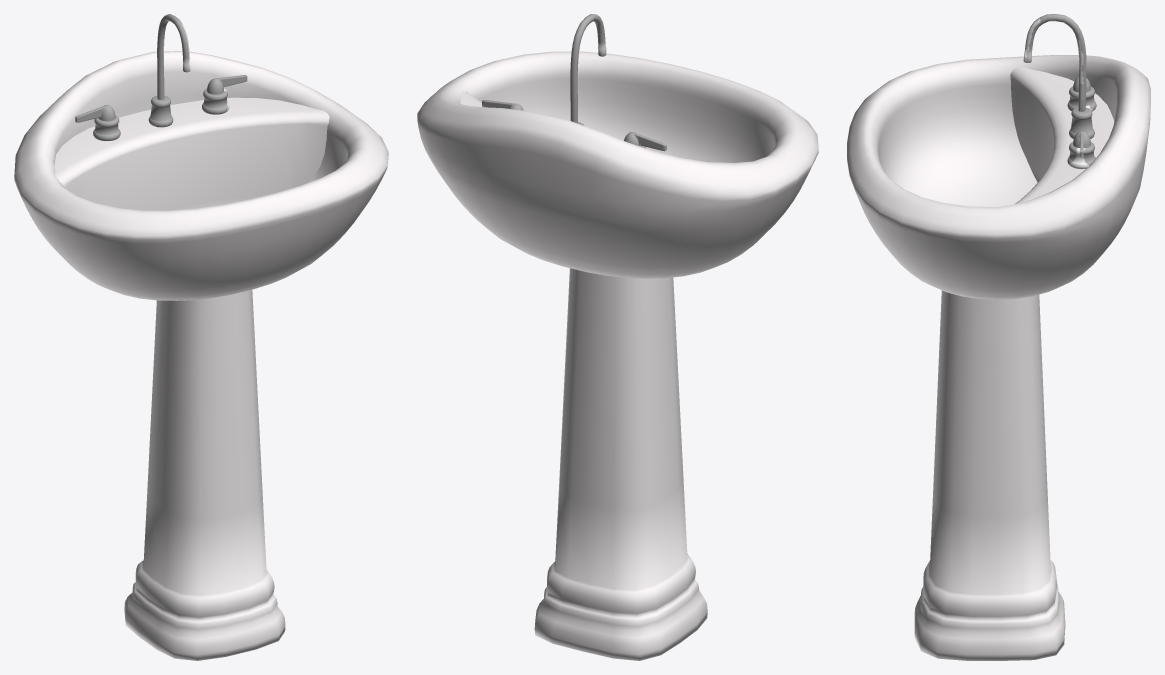
File: lavabo.dae
3 renders of one model, left to right at view 1: azimuth 30°, elevation 25°; view 2: azimuth 150°, elevation 25°; view 3: azimuth 270°, elevation 25°, orthographic. The views are drawn at different scales.
Parts seen in each view (by area): view 1: objMesh; view 2: objMesh; view 3: objMesh.
Boxes of the visible parts, x1,y1,x2,y2 form: objMesh: (14, 14, 388, 660); objMesh: (417, 14, 818, 660); objMesh: (847, 14, 1150, 660).
Size of the model in its own units: 680 by 1146 by 512.
1 material, 1 textured.
